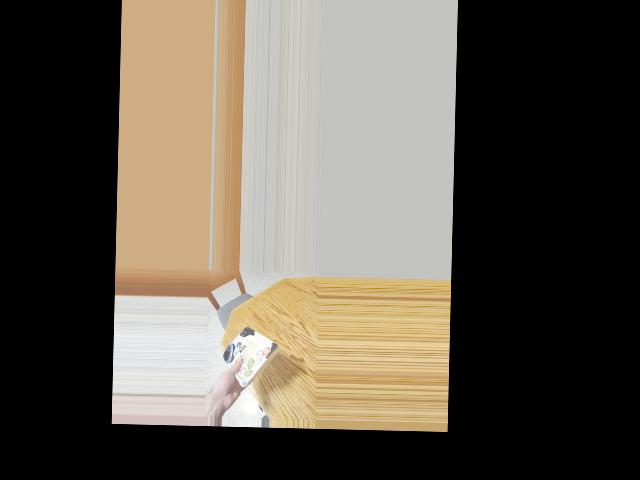cheese: (228, 326, 274, 380)
